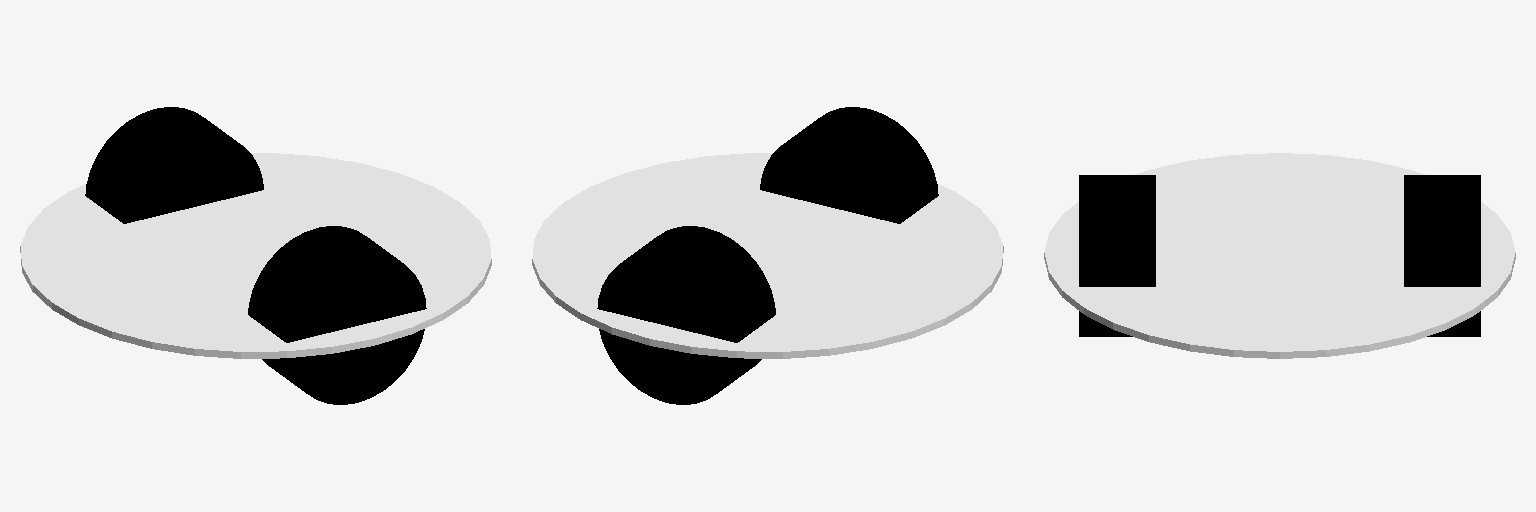
The robot description file, URDF, robot "miniq":
<?xml version="1.0"?>
<robot name="miniq">
    
    <link name="base_link">
        <visual>
            <geometry>
                <cylinder length="0.002" radius="0.061"/>
            </geometry>
            <material name="white">
                <color rgba="1 1 1 1"/>
            </material>
        </visual>
    </link>

    <joint name="left_wheel_joint" type="fixed">
        <parent link="base_link"/>
        <child link="left_wheel"/>
        <origin xyz="0 0.042 0" rpy="1.57079633 0 0"/>
    </joint>

    <link name="left_wheel">
        <visual>
            <geometry>
                <cylinder length="0.02" radius="0.021"/>
            </geometry>
            <material name="black">
                <color rgba="0 0 0 1"/>
            </material>
        </visual>
    </link>

    <joint name="right_wheel_joint" type="fixed">
        <parent link="base_link"/>
        <child link="right_wheel"/>
        <origin xyz="0 -0.042 0" rpy="-1.57079633 0 0"/>
    </joint>

    <link name="right_wheel">
        <visual>
            <geometry>
                <cylinder length="0.02" radius="0.021"/>
            </geometry>
            <material name="black">
                <color rgba="0 0 0 1"/>
            </material>
        </visual>
    </link>
    
</robot>

--- Render facts (derived) ---
Views: 3 orthographic renders of the robot side by side, from view 1: azimuth 30°, elevation 25°; view 2: azimuth 150°, elevation 25°; view 3: azimuth 270°, elevation 25°.
Robot: miniq — 3 links, 2 joints (2 fixed); root link base_link; default pose: every joint at zero.
Links seen in each view (by area): view 1: base_link, right_wheel, left_wheel; view 2: base_link, left_wheel, right_wheel; view 3: base_link, left_wheel, right_wheel.
Boxes of the visible links, bbox=[...] form: base_link: bbox=[20, 153, 491, 358]; right_wheel: bbox=[248, 226, 426, 404]; left_wheel: bbox=[85, 107, 263, 223]; base_link: bbox=[532, 153, 1003, 358]; left_wheel: bbox=[597, 226, 775, 404]; right_wheel: bbox=[760, 107, 938, 223]; base_link: bbox=[1044, 153, 1515, 358]; left_wheel: bbox=[1404, 175, 1480, 336]; right_wheel: bbox=[1079, 175, 1155, 336].
Bounding box of the posed robot: 0.122 × 0.122 × 0.042 m (x, y, z).
Geometry: primitives only (box / cylinder / sphere), no mesh files.